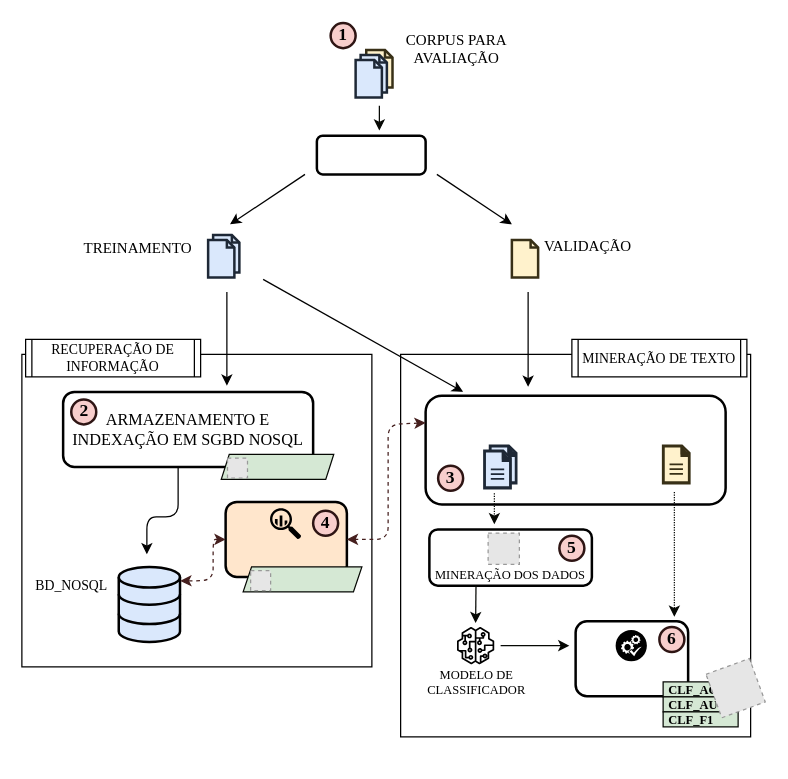
The diagram is 788 pixels wide and 779 high, and some of its shapes have lost their labels. Grey dashed boxes stand in for pictures. The shapes that lost their labels are listed below. From the top down, each one's box as (x1, y1, x2, y2) in pixels, then its label:
(315, 134, 426, 175): HOLDOUT
(220, 453, 334, 479): TIME_INDEX
(424, 394, 726, 505): TRANSFORMAÇÃO DOS DADOS COM ADIÇÃO DOS ATRIBUTOS DE RI
(224, 500, 348, 578): CONSULTA (BM25)
(242, 566, 362, 592): TIME_QUERY
(574, 619, 689, 697): AVALIAÇÃO DO MODELO
